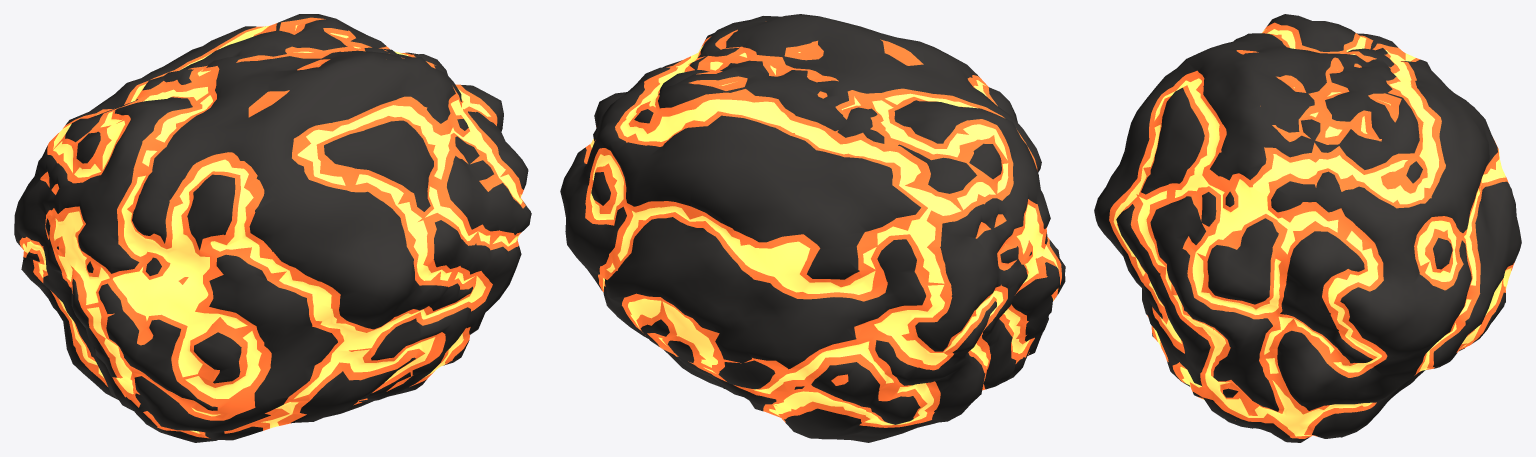
The model's file is bomb_3.glb.
3 views of the same model, side by side, from view 1: azimuth 30°, elevation 25°; view 2: azimuth 150°, elevation 25°; view 3: azimuth 270°, elevation 25° (orthographic). The views are drawn at different scales.
Visible parts, largest first — view 1: bomb_3; view 2: bomb_3; view 3: bomb_3.
Boxes of the visible parts, bbox=[...] form: bomb_3: bbox=[14, 14, 531, 442]; bomb_3: bbox=[560, 14, 1065, 442]; bomb_3: bbox=[1094, 14, 1521, 442].
Bounding box in the file's own units: 2.73 × 2.16 × 2.34.
